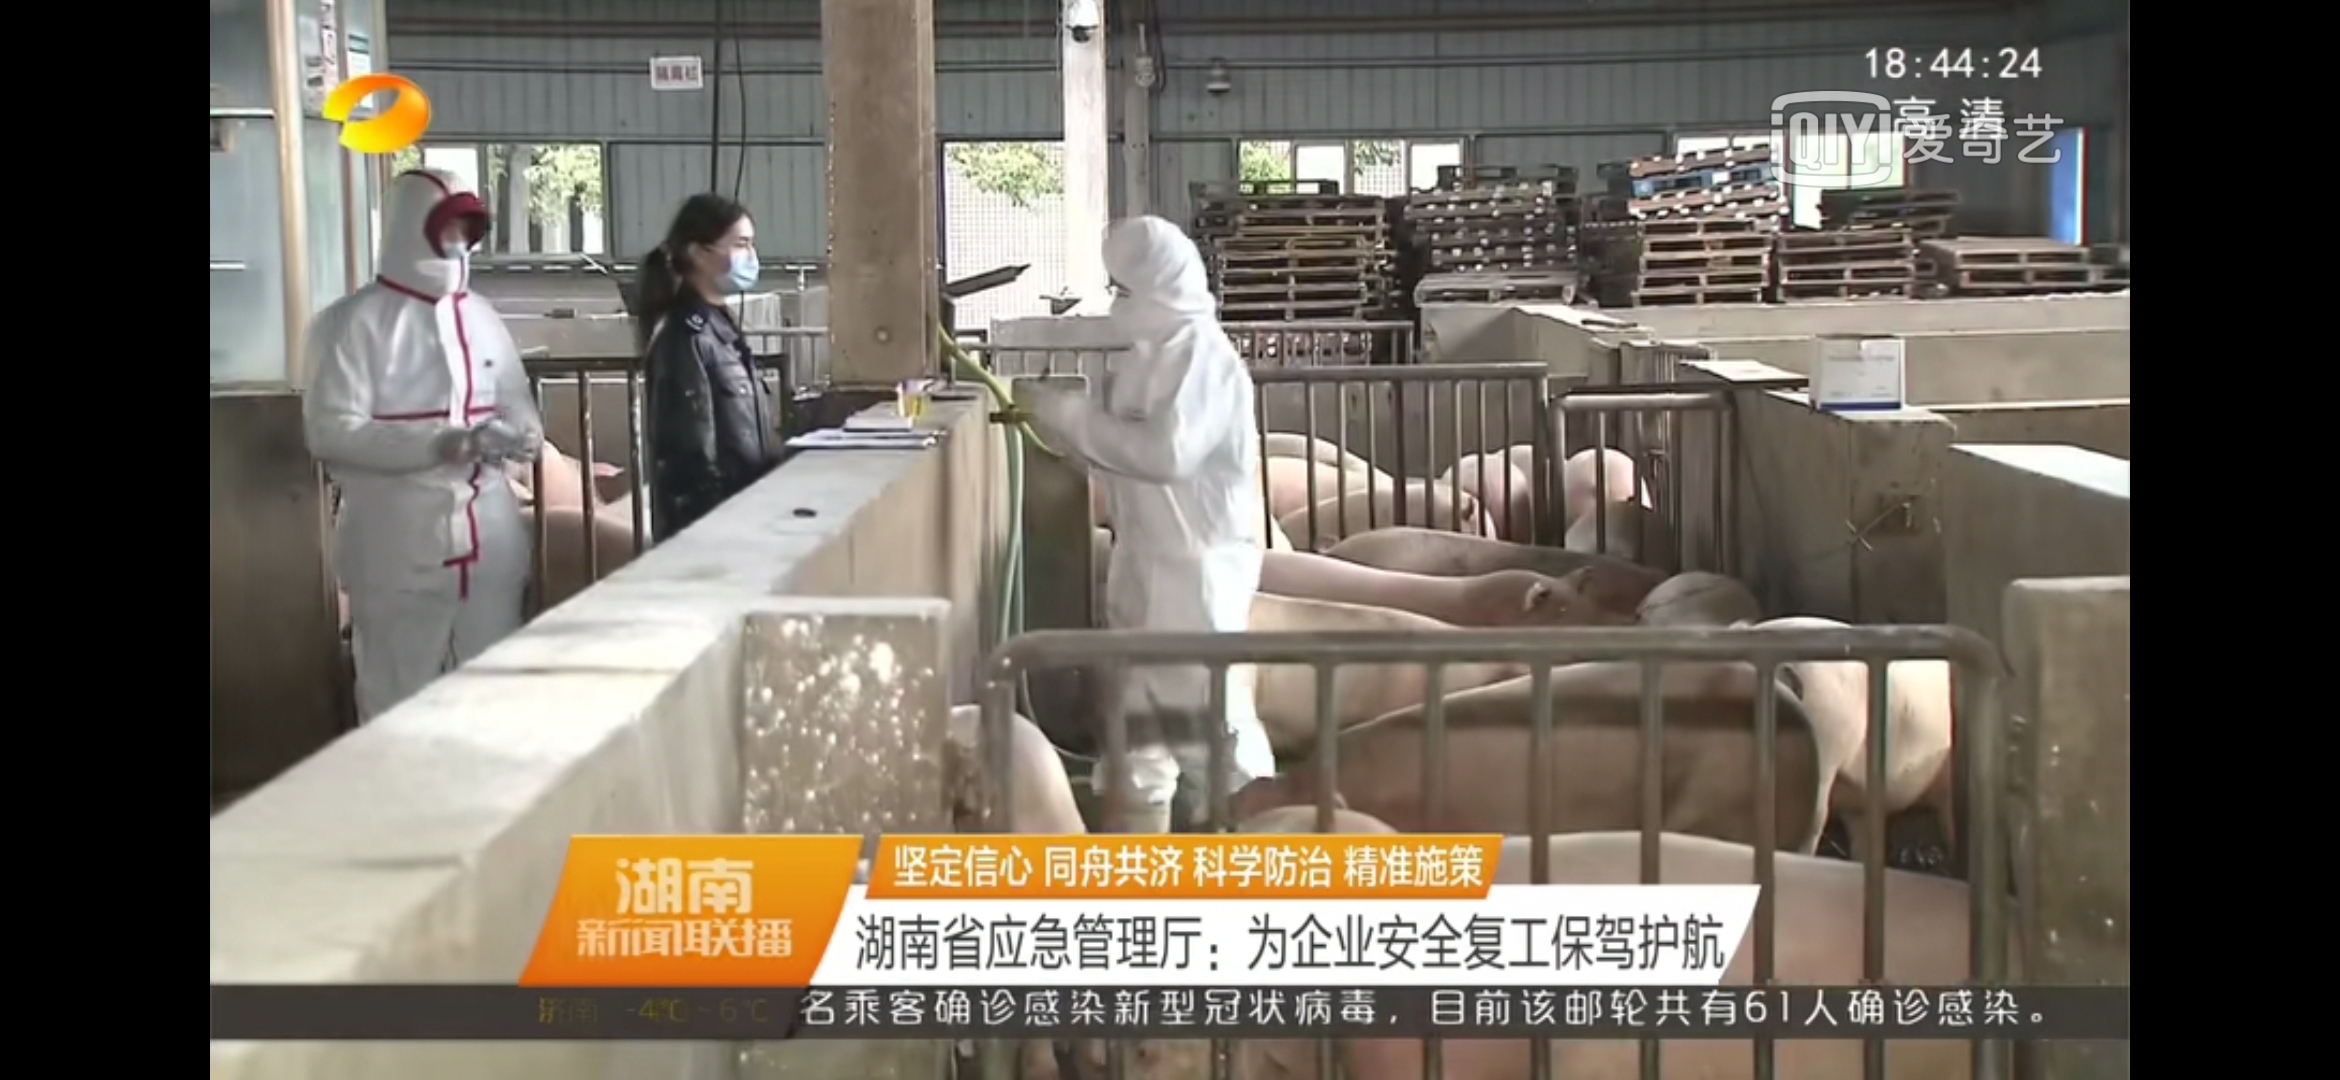correctlyWear: (400, 204, 482, 301), (681, 216, 763, 298), (1100, 260, 1149, 348)
